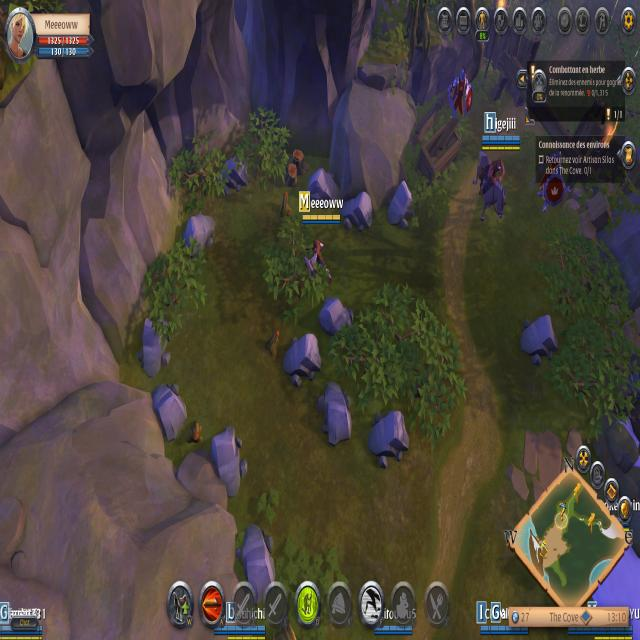stone: (237, 521, 278, 606), (209, 424, 250, 500), (318, 372, 354, 449), (368, 408, 411, 472), (150, 378, 189, 442), (520, 309, 560, 369), (318, 285, 358, 345), (136, 314, 172, 378), (284, 331, 322, 388), (182, 207, 217, 259), (340, 186, 374, 237), (305, 161, 340, 210), (385, 178, 415, 234), (215, 155, 250, 200)
